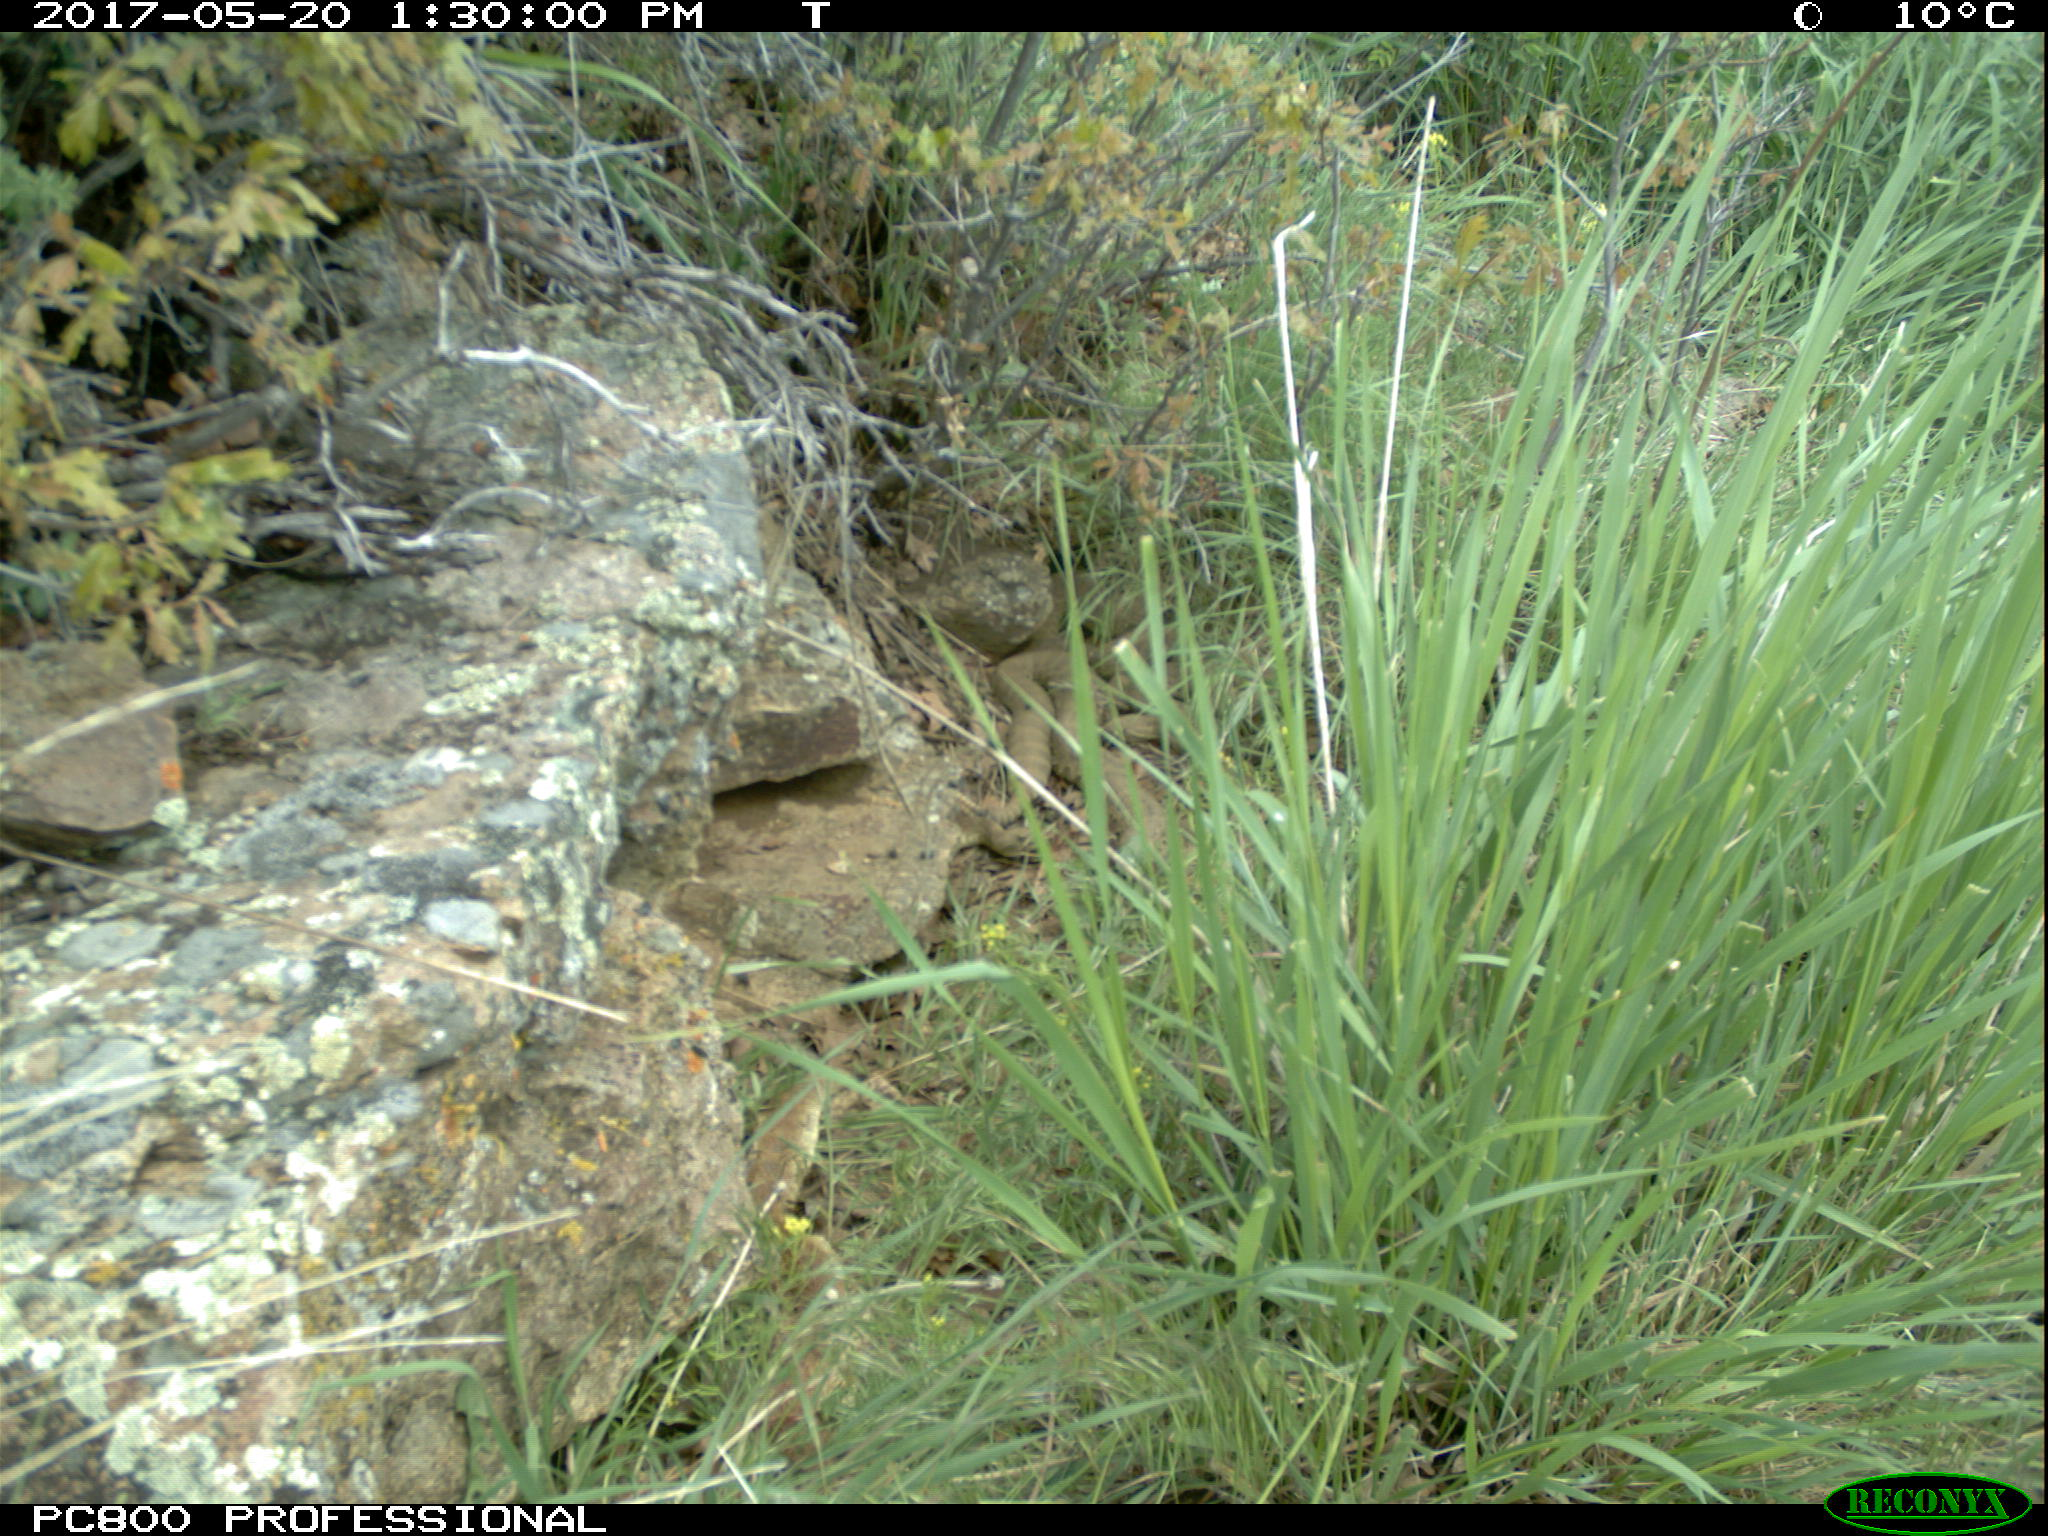snake: (992, 645, 1164, 865), (743, 1031, 840, 1388), (1039, 565, 1195, 653)
